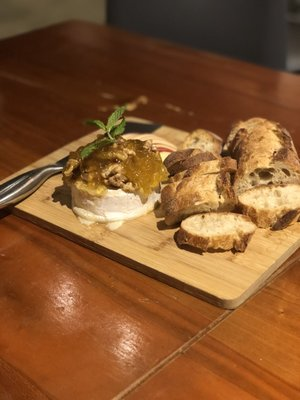soup: (63, 126, 177, 226)
